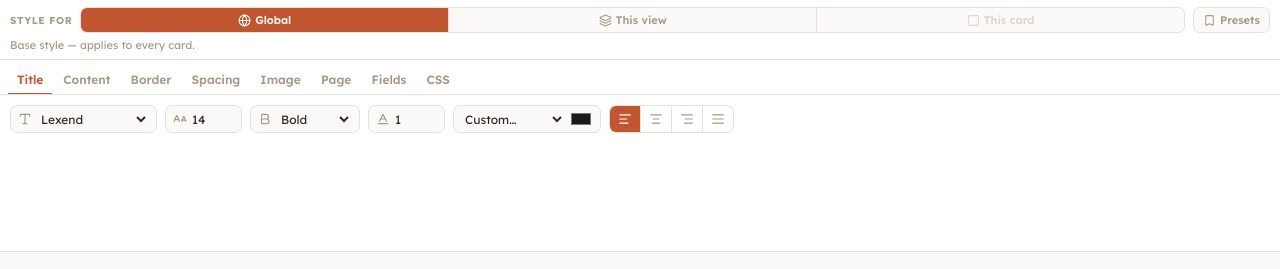
Test: StyleControls (scope switcher: Global / This view / This card) › the scope hint names the active type and Global describes the base
This screenshot has width=1280, height=269.
expect the text "Base style — applies to every card." is shown: met, box left=10, top=38, right=195, bottom=52
Step 1. Click the tab "This view" → click(633, 20), box left=449, top=8, right=817, bottom=32
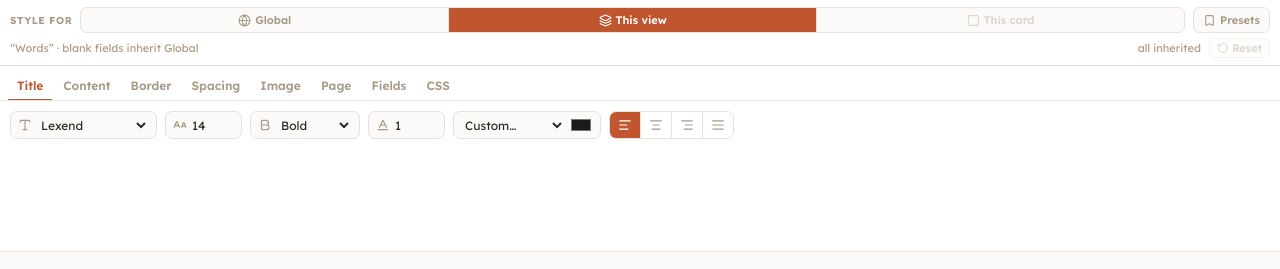
expect the text "“Words” · blank fields inherit Global" is shown: met, box left=10, top=41, right=198, bottom=55
